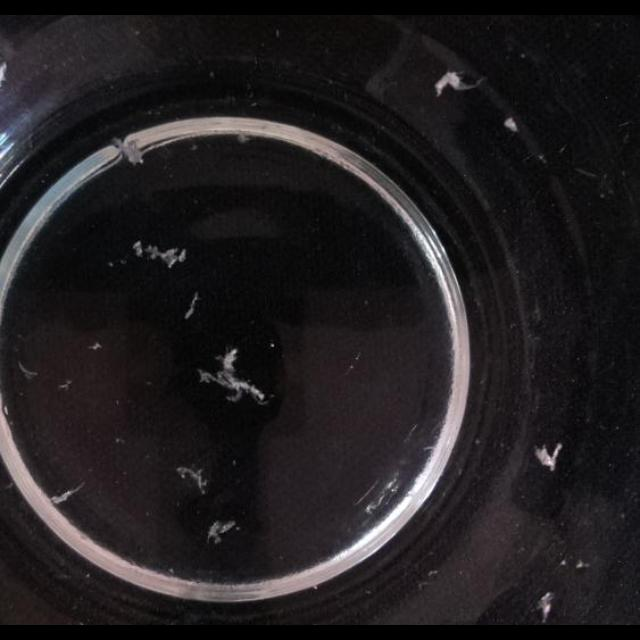Fibre: (196, 346, 268, 404), (362, 476, 402, 516), (133, 242, 187, 268), (435, 69, 481, 95), (108, 136, 142, 166), (176, 465, 208, 493), (49, 481, 86, 505), (534, 443, 562, 471), (207, 520, 237, 544), (537, 591, 555, 623), (184, 292, 200, 320), (18, 359, 38, 379), (504, 118, 518, 132), (132, 241, 144, 257), (236, 134, 252, 144), (88, 342, 102, 352), (576, 560, 590, 570), (58, 380, 72, 390)
microbeads: (115, 437, 125, 445), (166, 568, 174, 574), (232, 459, 236, 466), (270, 342, 274, 348)
